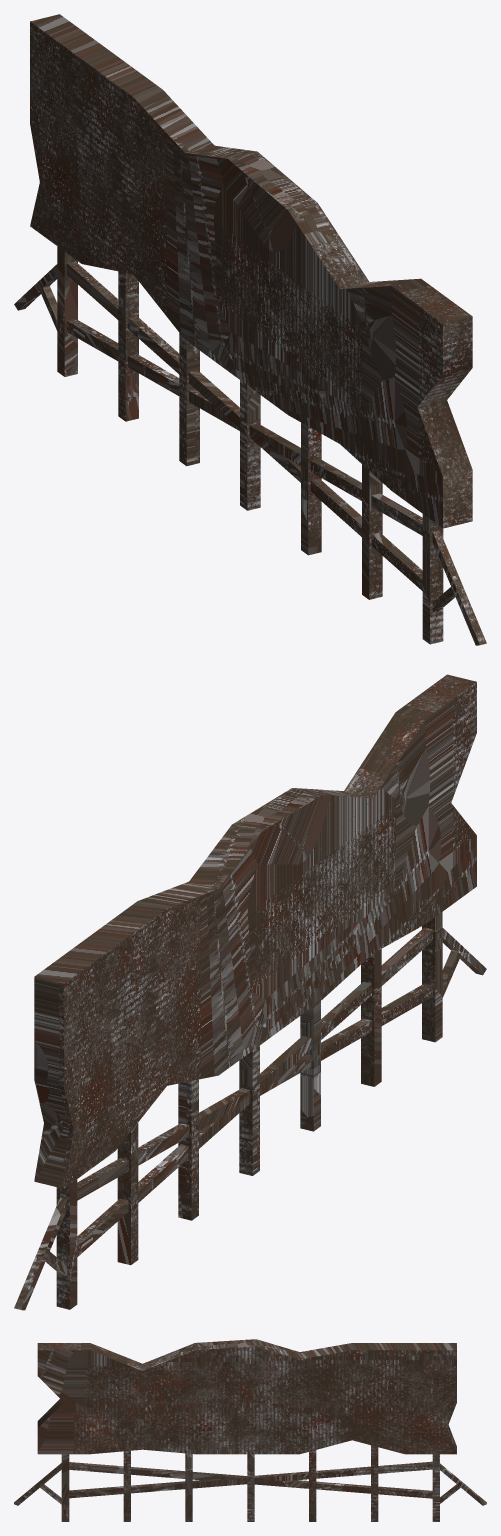
File: VallaPubli.obj
3 views of the same model, one above another, from view 1: azimuth 30°, elevation 25°; view 2: azimuth 150°, elevation 25°; view 3: azimuth 270°, elevation 25° (orthographic). The views are drawn at different scales.
Parts seen in each view (by area): view 1: Box136, Box140; view 2: Box136, Box140; view 3: Box136, Box140.
Boxes of the visible parts, left/top/right/bottom form: Box136: left=30, top=14, right=472, bottom=528; Box140: left=14, top=246, right=486, bottom=645; Box136: left=34, top=674, right=476, bottom=1188; Box140: left=14, top=912, right=486, bottom=1310; Box136: left=37, top=1339, right=456, bottom=1454; Box140: left=14, top=1445, right=486, bottom=1521.
Size of the model in its own units: 2.96 by 33.12 by 80.35.
